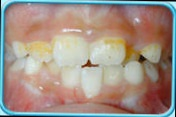Tooth Discoloration: (100, 37, 162, 66), (21, 36, 62, 57)
